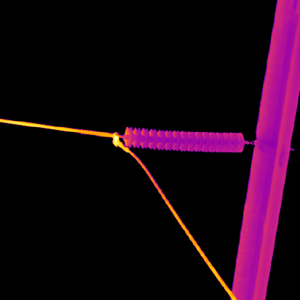insulator: (122, 125, 245, 153)
